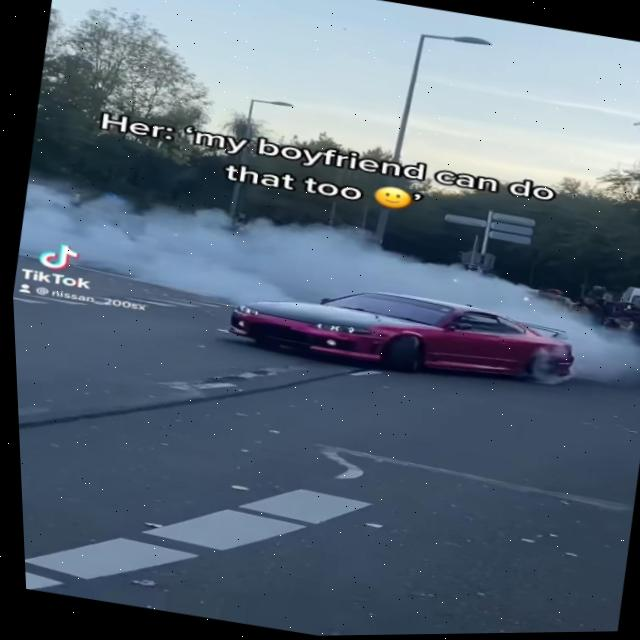vehicle: (214, 263, 587, 405)
